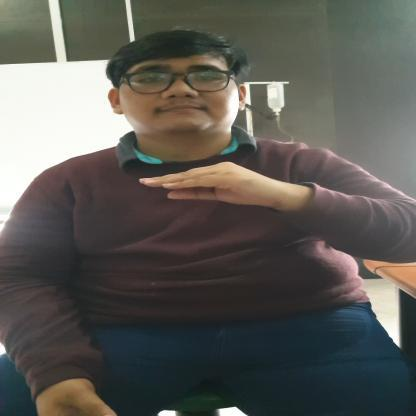Pagi: (134, 160, 304, 209)
